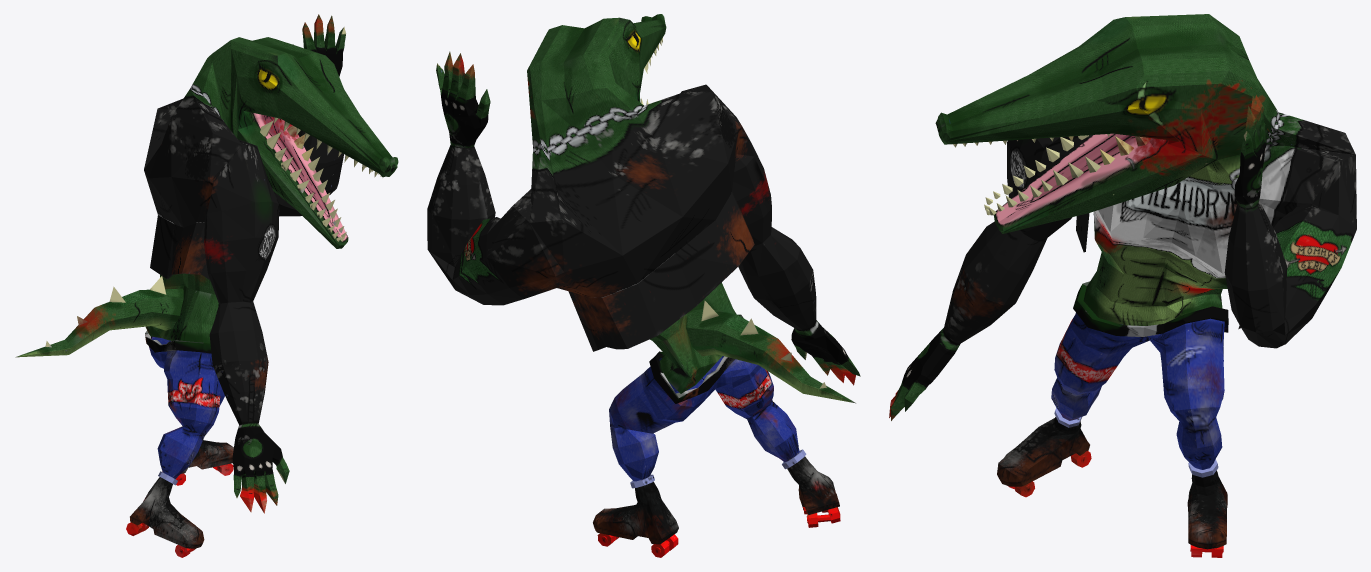
Rendered from cocodrilaBonesSelect_000014.obj.
3 views of the same model, side by side, from view 1: azimuth 30°, elevation 25°; view 2: azimuth 150°, elevation 25°; view 3: azimuth 270°, elevation 25° (orthographic). The views are drawn at different scales.
Visible parts, largest first — view 1: Crocodile.002_Cylinder.002; view 2: Crocodile.002_Cylinder.002; view 3: Crocodile.002_Cylinder.002.
Boxes of the visible parts, left/top/right/bottom form: Crocodile.002_Cylinder.002: left=15, top=14, right=398, bottom=557; Crocodile.002_Cylinder.002: left=427, top=14, right=860, bottom=557; Crocodile.002_Cylinder.002: left=889, top=14, right=1356, bottom=557.
Bounding box in the file's own units: 5.2 × 6.15 × 4.68.
